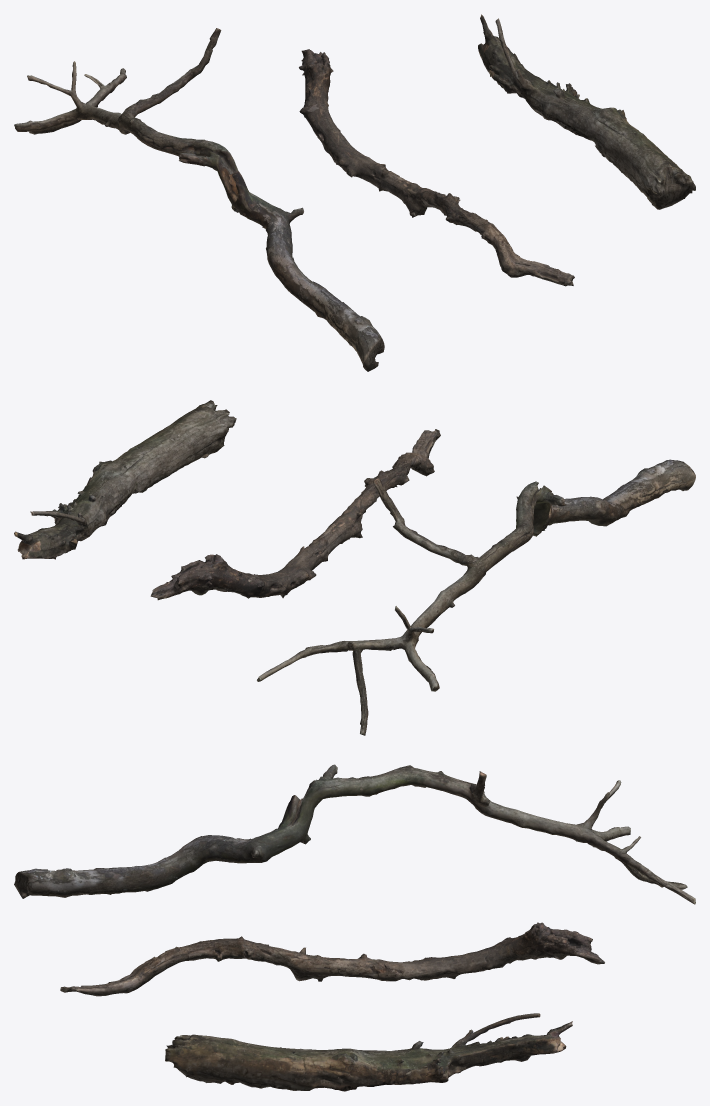
The model's file is dry_branches_medium_01.glb.
3 views of the same model, one above another, from view 1: azimuth 30°, elevation 25°; view 2: azimuth 150°, elevation 25°; view 3: azimuth 270°, elevation 25° (orthographic). The views are drawn at different scales.
Visible parts, largest first — view 1: dry_branches_medium_01_a, dry_branches_medium_01_c, dry_branches_medium_01_b; view 2: dry_branches_medium_01_a, dry_branches_medium_01_c, dry_branches_medium_01_b; view 3: dry_branches_medium_01_a, dry_branches_medium_01_c, dry_branches_medium_01_b.
Boxes of the visible parts, bbox=[...] form: dry_branches_medium_01_a: bbox=[14, 28, 384, 371]; dry_branches_medium_01_c: bbox=[478, 14, 695, 209]; dry_branches_medium_01_b: bbox=[299, 49, 574, 286]; dry_branches_medium_01_a: bbox=[257, 459, 695, 735]; dry_branches_medium_01_c: bbox=[14, 400, 236, 559]; dry_branches_medium_01_b: bbox=[150, 429, 440, 600]; dry_branches_medium_01_a: bbox=[14, 764, 695, 904]; dry_branches_medium_01_c: bbox=[165, 1013, 572, 1091]; dry_branches_medium_01_b: bbox=[60, 922, 604, 996].
Size of the model in its own units: 1.63 by 0.525 by 2.
1 material, 1 textured.
